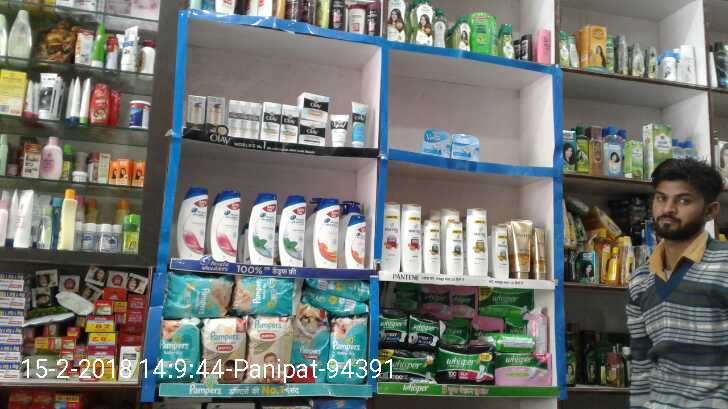venus: (425, 129, 451, 156), (451, 135, 479, 156)
